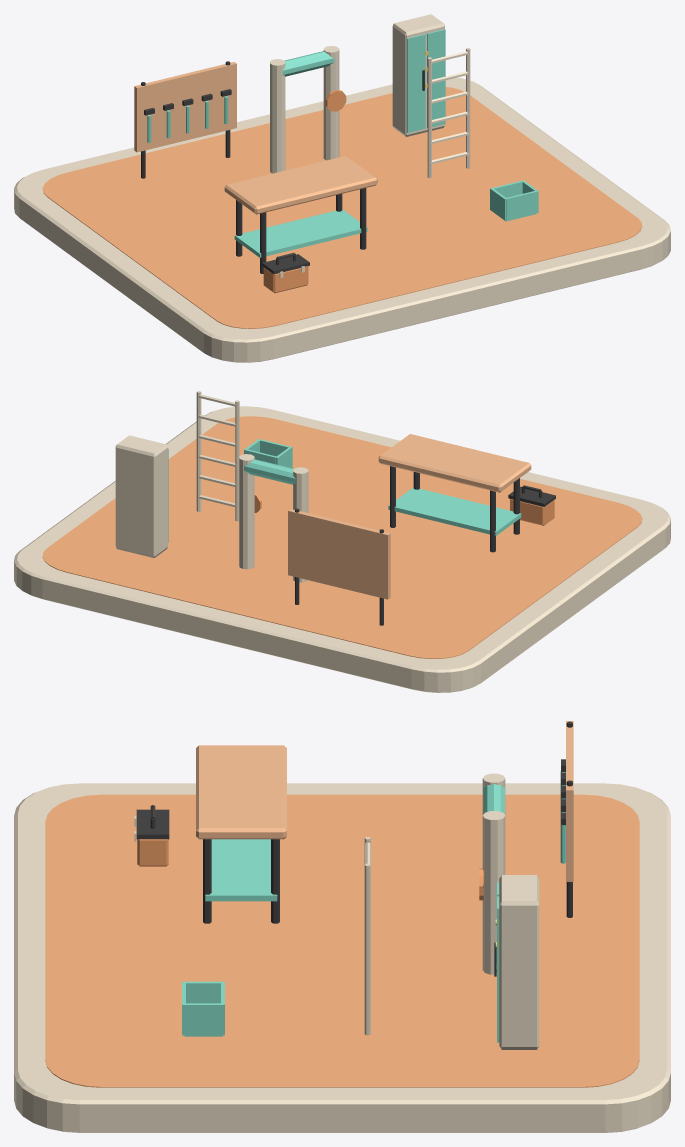
The model's file is room.fbx.
3 views of the same model, one above another, from view 1: azimuth 30°, elevation 25°; view 2: azimuth 150°, elevation 25°; view 3: azimuth 270°, elevation 25° (orthographic). The views are drawn at different scales.
Visible parts, largest first — view 1: COM-02 Floor Surface, COM-01 Rounded Base Direct, Peg board, Worktop, Lower shelf, Equipment case, Pipe, Door, Pipe.001, Door.001, Box, Cross pipe (+4 smaller); view 2: COM-02 Floor Surface, COM-01 Rounded Base Direct, Peg board, Equipment case, Worktop, Lower shelf, Pipe.001, Cross pipe, Box, Pipe, Rail.001, Rail (+1 smaller); view 3: COM-02 Floor Surface, COM-01 Rounded Base Direct, Worktop, Equipment case, Lower shelf, Pipe.001, Bin side.001, Peg board, Rail.001, Lid, Box, Bin side (+2 smaller).
Boxes of the visible parts, left/top/right/bottom form: COM-02 Floor Surface: left=42, top=87, right=642, bottom=328; COM-01 Rounded Base Direct: left=14, top=77, right=670, bottom=362; Peg board: left=134, top=62, right=236, bottom=152; Worktop: left=224, top=156, right=377, bottom=214; Lower shelf: left=234, top=209, right=367, bottom=257; Equipment case: left=392, top=14, right=444, bottom=136; Pipe: left=270, top=59, right=285, bottom=173; Door: left=407, top=34, right=425, bottom=132; Pipe.001: left=323, top=46, right=339, bottom=160; Door.001: left=427, top=29, right=445, bottom=127; Box: left=263, top=266, right=308, bottom=293; Cross pipe: left=282, top=51, right=334, bottom=76; COM-02 Floor Surface: left=42, top=416, right=642, bottom=658; COM-01 Rounded Base Direct: left=14, top=406, right=670, bottom=692; Peg board: left=288, top=509, right=390, bottom=599; Equipment case: left=115, top=435, right=167, bottom=557; Worktop: left=378, top=434, right=531, bottom=492; Lower shelf: left=388, top=487, right=521, bottom=535; Pipe.001: left=239, top=454, right=254, bottom=569; Cross pipe: left=244, top=459, right=295, bottom=484; Box: left=510, top=499, right=554, bottom=525; Pipe: left=293, top=467, right=308, bottom=582; Rail.001: left=196, top=391, right=201, bottom=511; Rail: left=235, top=400, right=239, bottom=521; COM-02 Floor Surface: left=45, top=794, right=639, bottom=1087; COM-01 Rounded Base Direct: left=14, top=783, right=670, bottom=1132; Worktop: left=196, top=745, right=286, bottom=839; Equipment case: left=499, top=875, right=539, bottom=1049; Lower shelf: left=205, top=839, right=277, bottom=901; Pipe.001: left=482, top=811, right=505, bottom=974; Bin side.001: left=182, top=1003, right=224, bottom=1035; Peg board: left=566, top=721, right=573, bottom=881; Rail.001: left=364, top=863, right=370, bottom=1035; Lid: left=136, top=809, right=169, bottom=839; Box: left=137, top=839, right=168, bottom=866; Bin side: left=182, top=981, right=224, bottom=1003.
Bounding box in the file's own units: 600 × 178 × 520.
